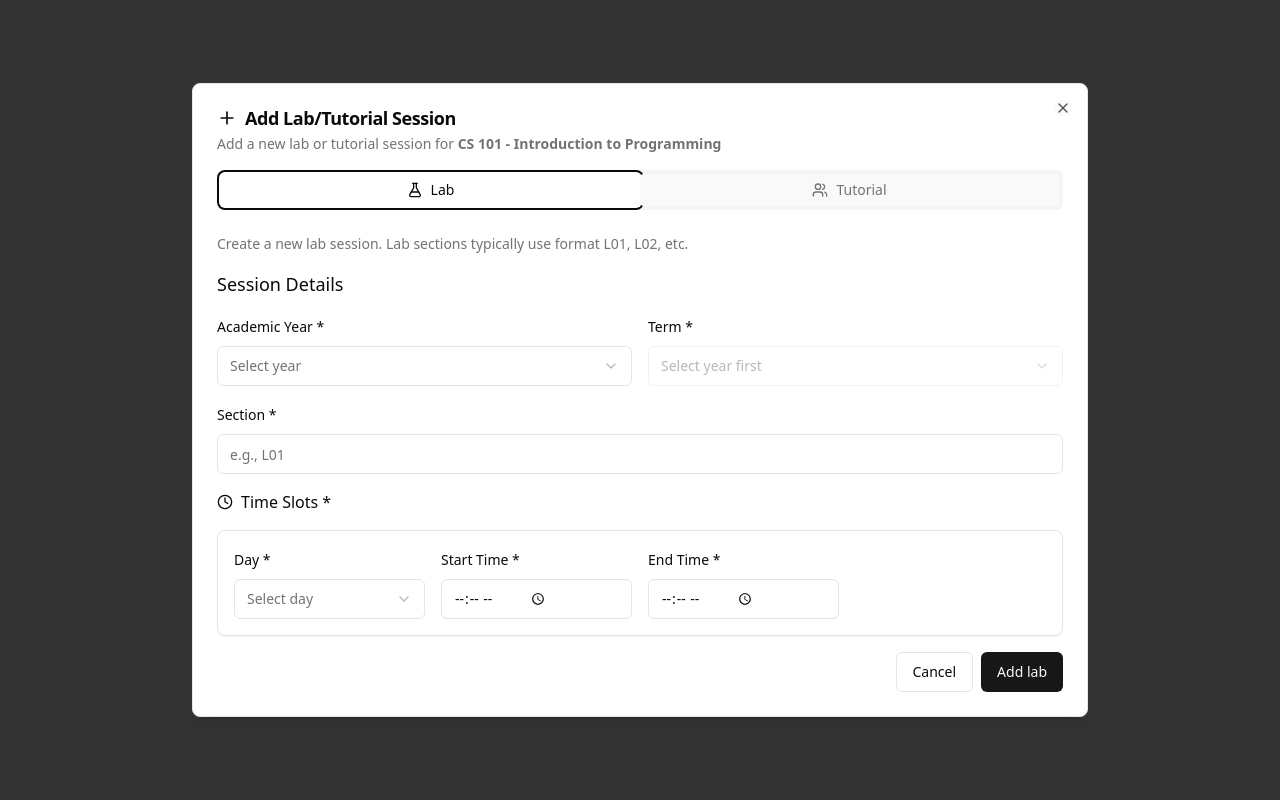
AddLabTutorialModal › validates section format for labs
Step 1. Type "invalid" into the field with placeholder "e.g., L01" → (640, 454), box [217,434,1063,474]
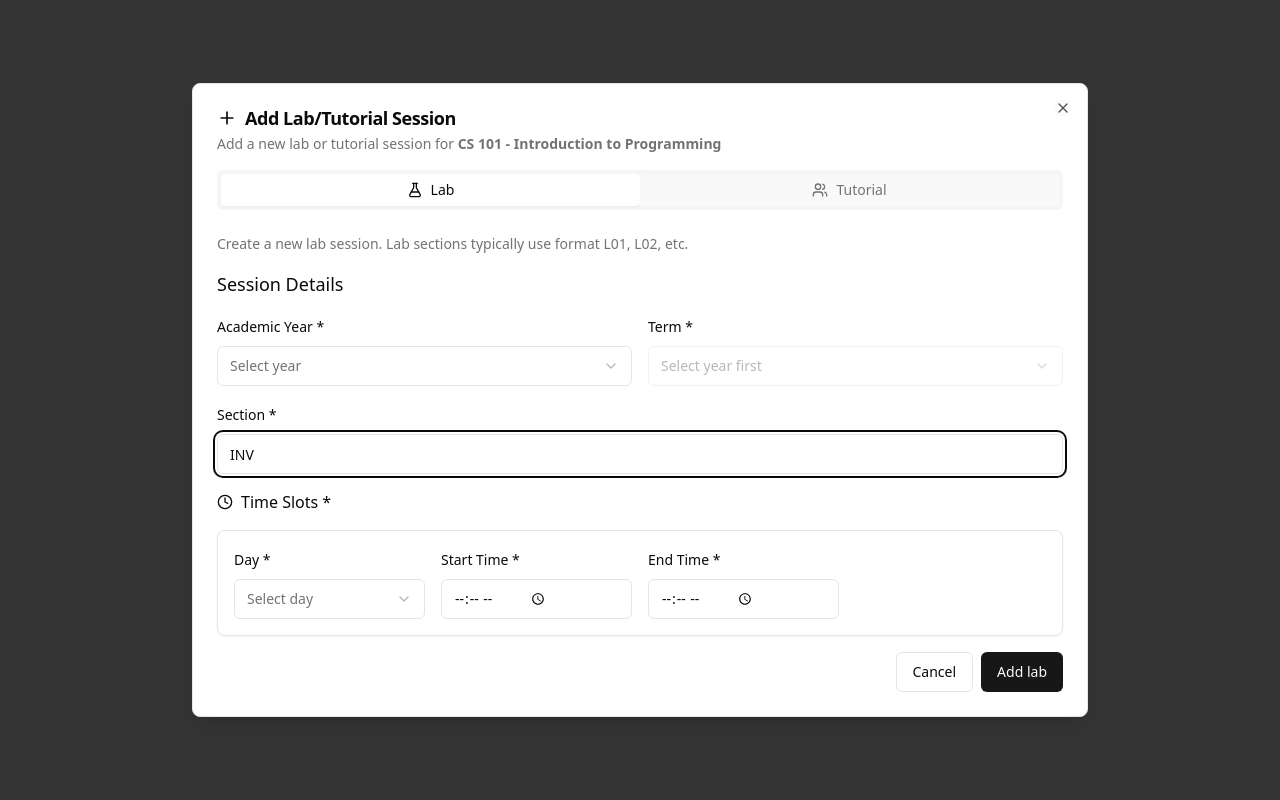
Step 2. Press Tab
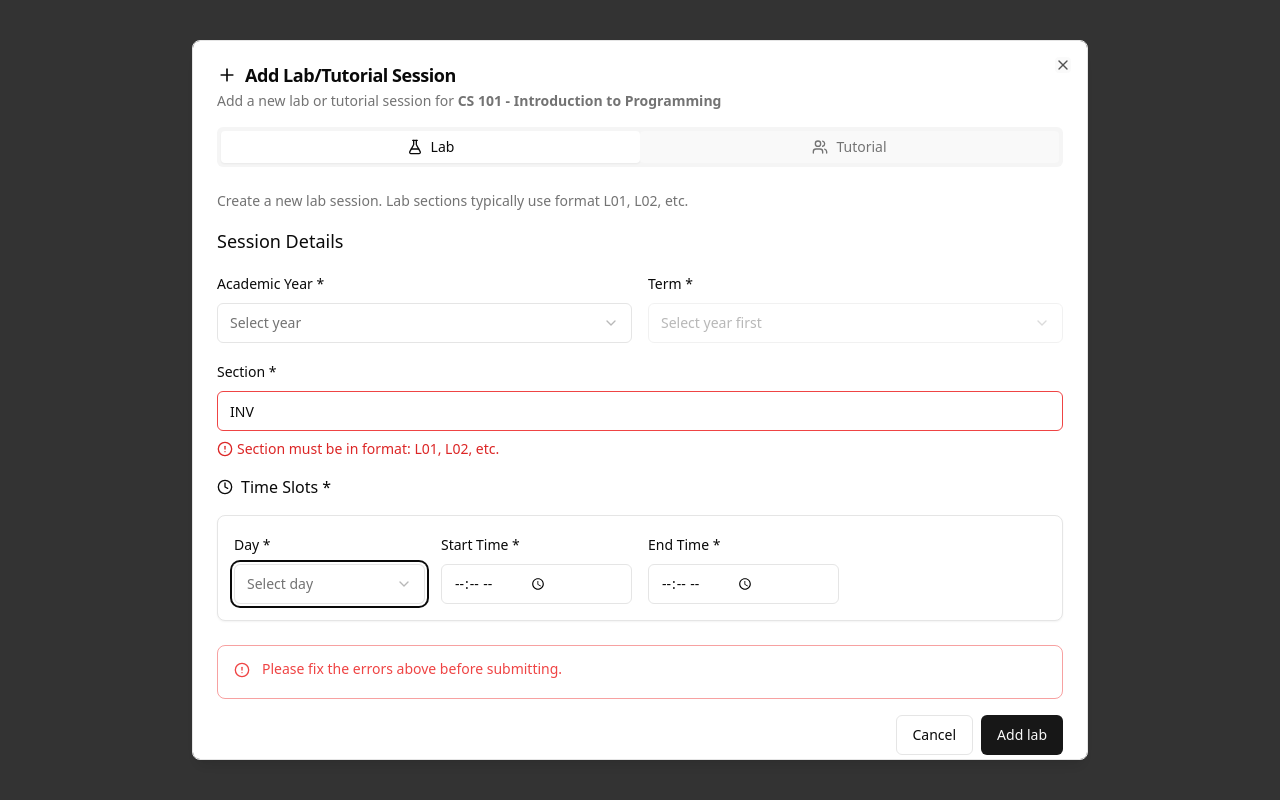
Now the text "Section must be in format: L01, L02, etc." is shown, box [217,439,499,458]
